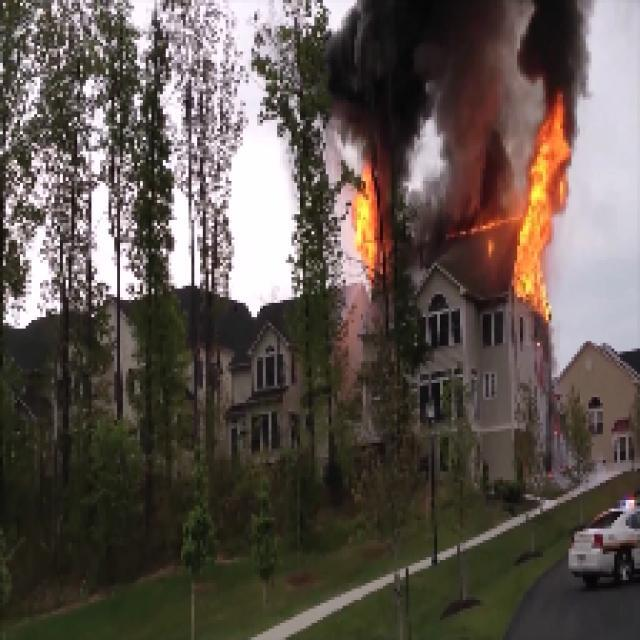Fire: (512, 127, 576, 298), (348, 170, 373, 276)
Smoke: (342, 7, 575, 116)
